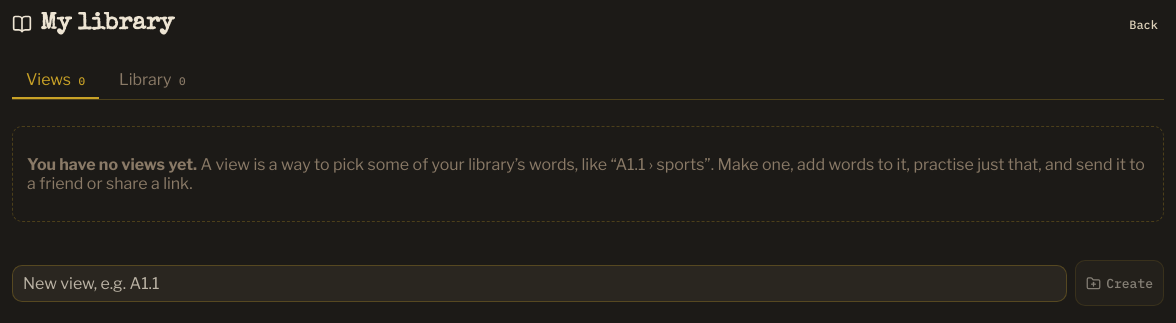
Test: the library (all my words) and the views › an empty library says how to fill it
What coordinates should you click on to do the following:
click the tab "Library 0"
I would click on:
 (152, 80)
Its box is [105, 62, 200, 99].
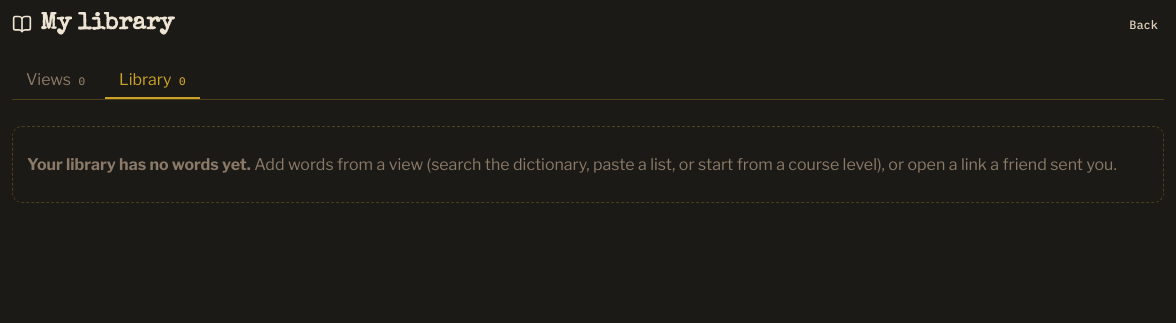
Expected: the element with class "lib-empty" shows "no words yet", [27, 155, 251, 174]
